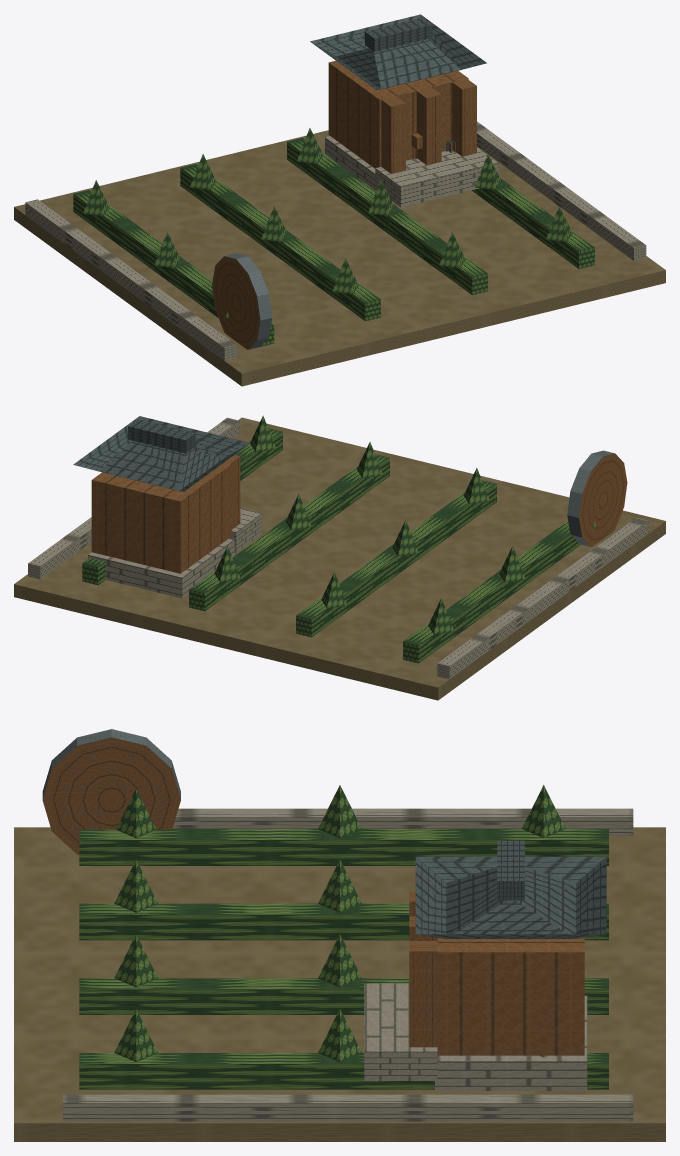
File: domestic-FARM-1-lod0.glb
3 renders of one model, top to bottom at view 1: azimuth 30°, elevation 25°; view 2: azimuth 150°, elevation 25°; view 3: azimuth 270°, elevation 25°, orthographic. The views are drawn at different scales.
Size of the model in its own units: 0.86 by 0.292 by 0.8.
Materials: 1 (1 with a texture image).
